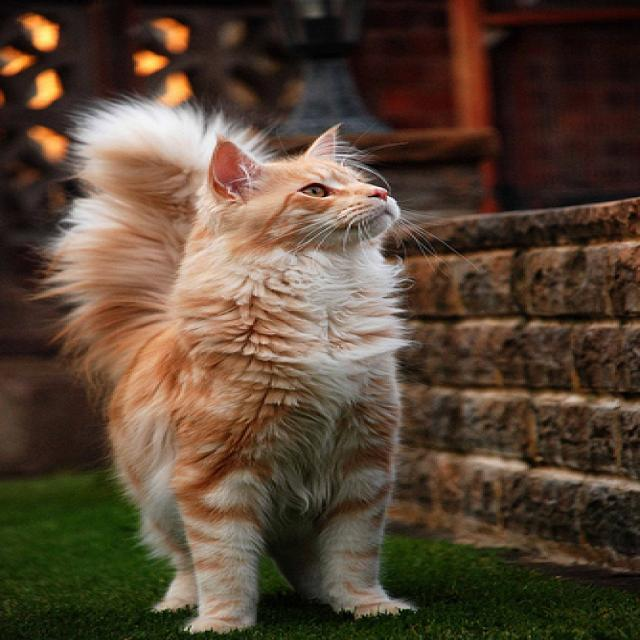Maine_Coon: (190, 114, 405, 258)
